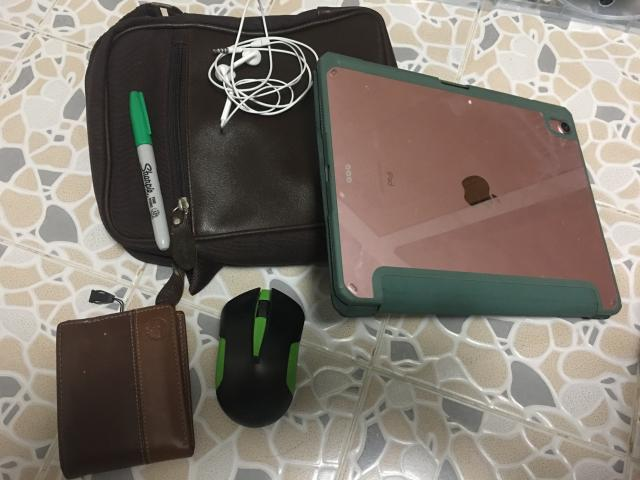Mouse: (215, 289, 304, 428)
Pen: (129, 91, 170, 251)
Wallet: (56, 304, 195, 479)
wire: (209, 0, 319, 129)
